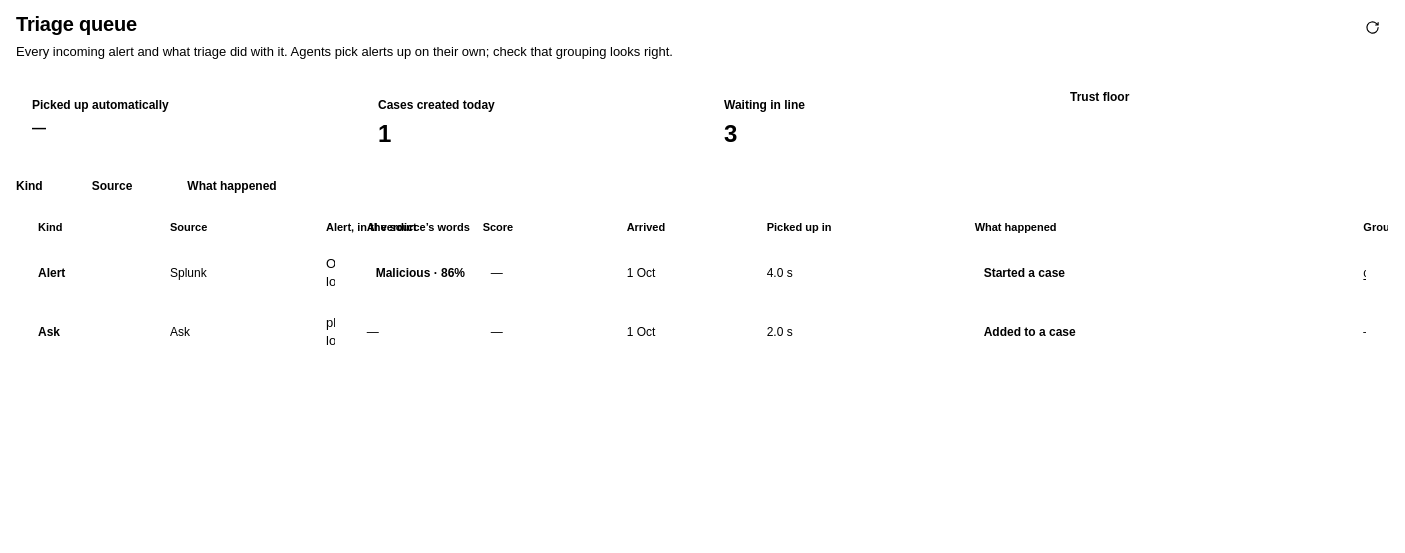
Scenario: TriageScreen › shows the AI verdict with what it cites and who wrote each field (W0.45)
Expected: the element named "Intake strip" is shown, [32,90,1129,146]
Click the text "Odd login" at (330, 274), box [326,255,335,292]
(page scrolled)
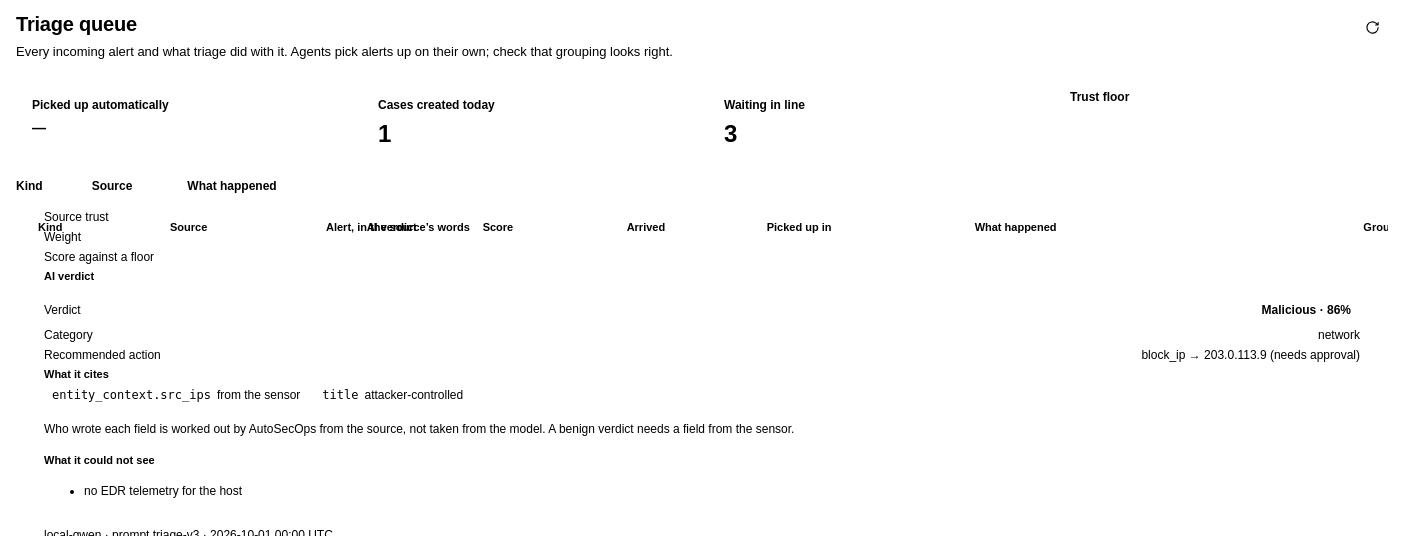
Expected: the element named "Expanded row" shows "block_ip → 203.0.113.9 (needs approval)", [1141,348,1360,362]
Expected: the text "entity_context.src_ips" shows "from the sensor", [217,388,300,402]
Expected: the text "title" shows "attacker-controlled", [364,388,463,402]
